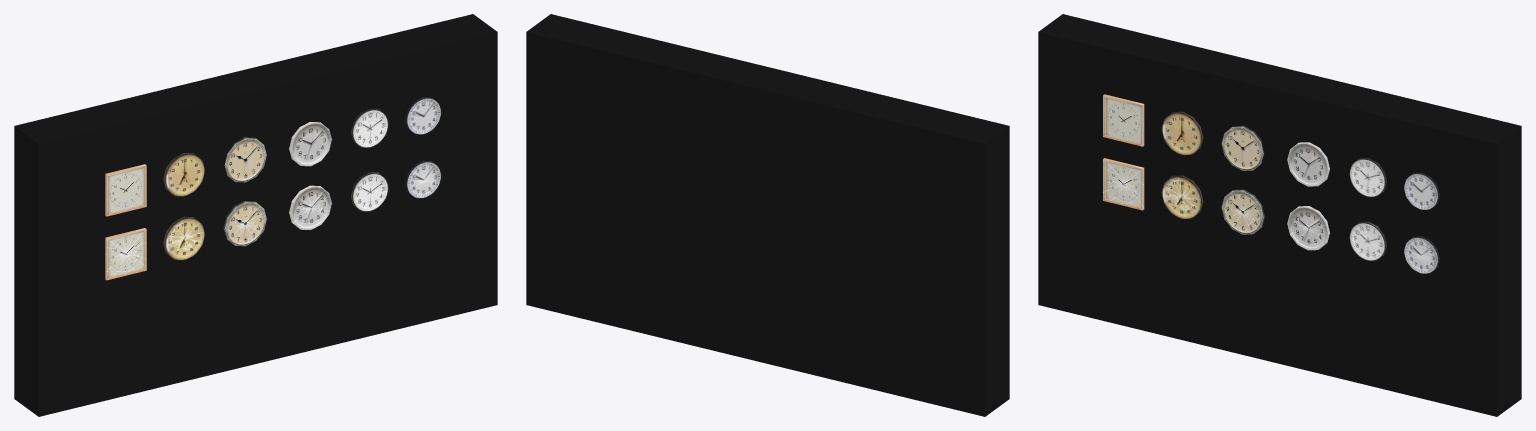
The model's file is wall_clocks.glb.
3 renders of one model, left to right at view 1: azimuth 30°, elevation 25°; view 2: azimuth 150°, elevation 25°; view 3: azimuth 330°, elevation 25°, orthographic.
Parts seen in each view (by area): view 1: Wall.001, Wall Clock.005, Wall Clock.011, Wall Clock.004, Wall Clock.010, Wall Clock.003, Wall Clock.009, Wall Clock, Wall Clock.006, Wall Clock.002, Wall Clock.008, Wall Clock.001 (+1 smaller); view 2: Wall.001; view 3: Wall.001, Wall Clock.005, Wall Clock.011, Wall Clock.010, Wall Clock.004, Wall Clock.003, Wall Clock.009, Wall Clock.006, Wall Clock, Wall Clock.002, Wall Clock.008, Wall Clock.001 (+1 smaller).
Part boxes in pixels (left/top/right/bottom): Wall.001: left=14, top=14, right=497, bottom=416; Wall Clock.005: left=105, top=164, right=146, bottom=216; Wall Clock.011: left=105, top=228, right=146, bottom=280; Wall Clock.004: left=223, top=137, right=266, bottom=182; Wall Clock.010: left=223, top=201, right=266, bottom=246; Wall Clock.003: left=289, top=122, right=331, bottom=166; Wall Clock.009: left=289, top=185, right=331, bottom=229; Wall Clock: left=163, top=153, right=205, bottom=196; Wall Clock.006: left=163, top=216, right=205, bottom=260; Wall Clock.002: left=351, top=108, right=388, bottom=147; Wall Clock.008: left=351, top=172, right=388, bottom=211; Wall Clock.001: left=405, top=97, right=441, bottom=134; Wall.001: left=526, top=14, right=1009, bottom=416; Wall.001: left=1038, top=14, right=1521, bottom=416; Wall Clock.005: left=1103, top=94, right=1144, bottom=146; Wall Clock.011: left=1103, top=158, right=1144, bottom=210; Wall Clock.010: left=1221, top=189, right=1264, bottom=234; Wall Clock.004: left=1221, top=125, right=1264, bottom=170; Wall Clock.003: left=1287, top=142, right=1329, bottom=186; Wall Clock.009: left=1287, top=206, right=1329, bottom=250; Wall Clock.006: left=1161, top=175, right=1203, bottom=218; Wall Clock: left=1161, top=111, right=1203, bottom=155; Wall Clock.002: left=1349, top=158, right=1386, bottom=197; Wall Clock.008: left=1349, top=221, right=1386, bottom=260; Wall Clock.001: left=1403, top=172, right=1439, bottom=210.
Size of the model in its own units: 4.11 by 2.34 by 0.4064.
3 materials, 2 textured.
